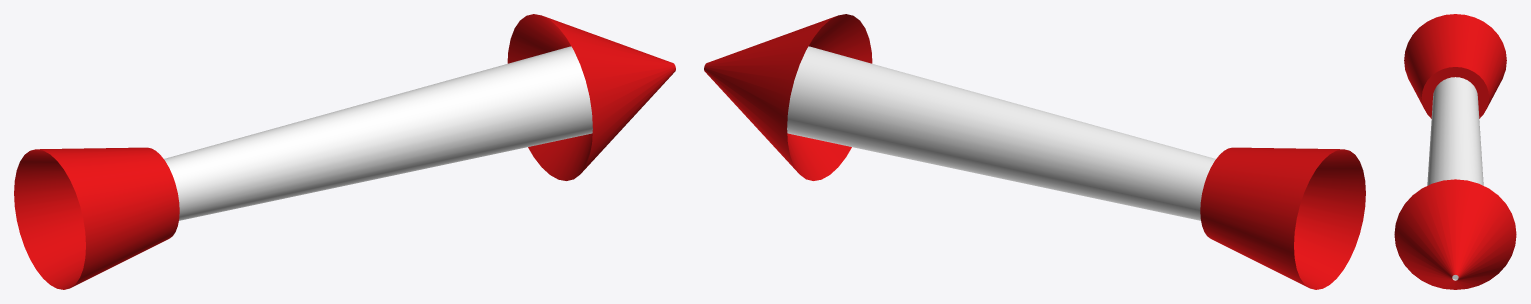
Rendered from Missile.glb.
3 views of the same model, side by side, from view 1: azimuth 30°, elevation 25°; view 2: azimuth 150°, elevation 25°; view 3: azimuth 270°, elevation 25° (orthographic). The views are drawn at different scales.
Visible parts, largest first — view 1: Cylinder; view 2: Cylinder; view 3: Cylinder.
Boxes of the visible parts, left/top/right/bottom form: Cylinder: left=14, top=14, right=675, bottom=289; Cylinder: left=704, top=14, right=1365, bottom=289; Cylinder: left=1394, top=14, right=1516, bottom=289.
Bounding box in the file's own units: 4 × 0.95 × 0.95.
